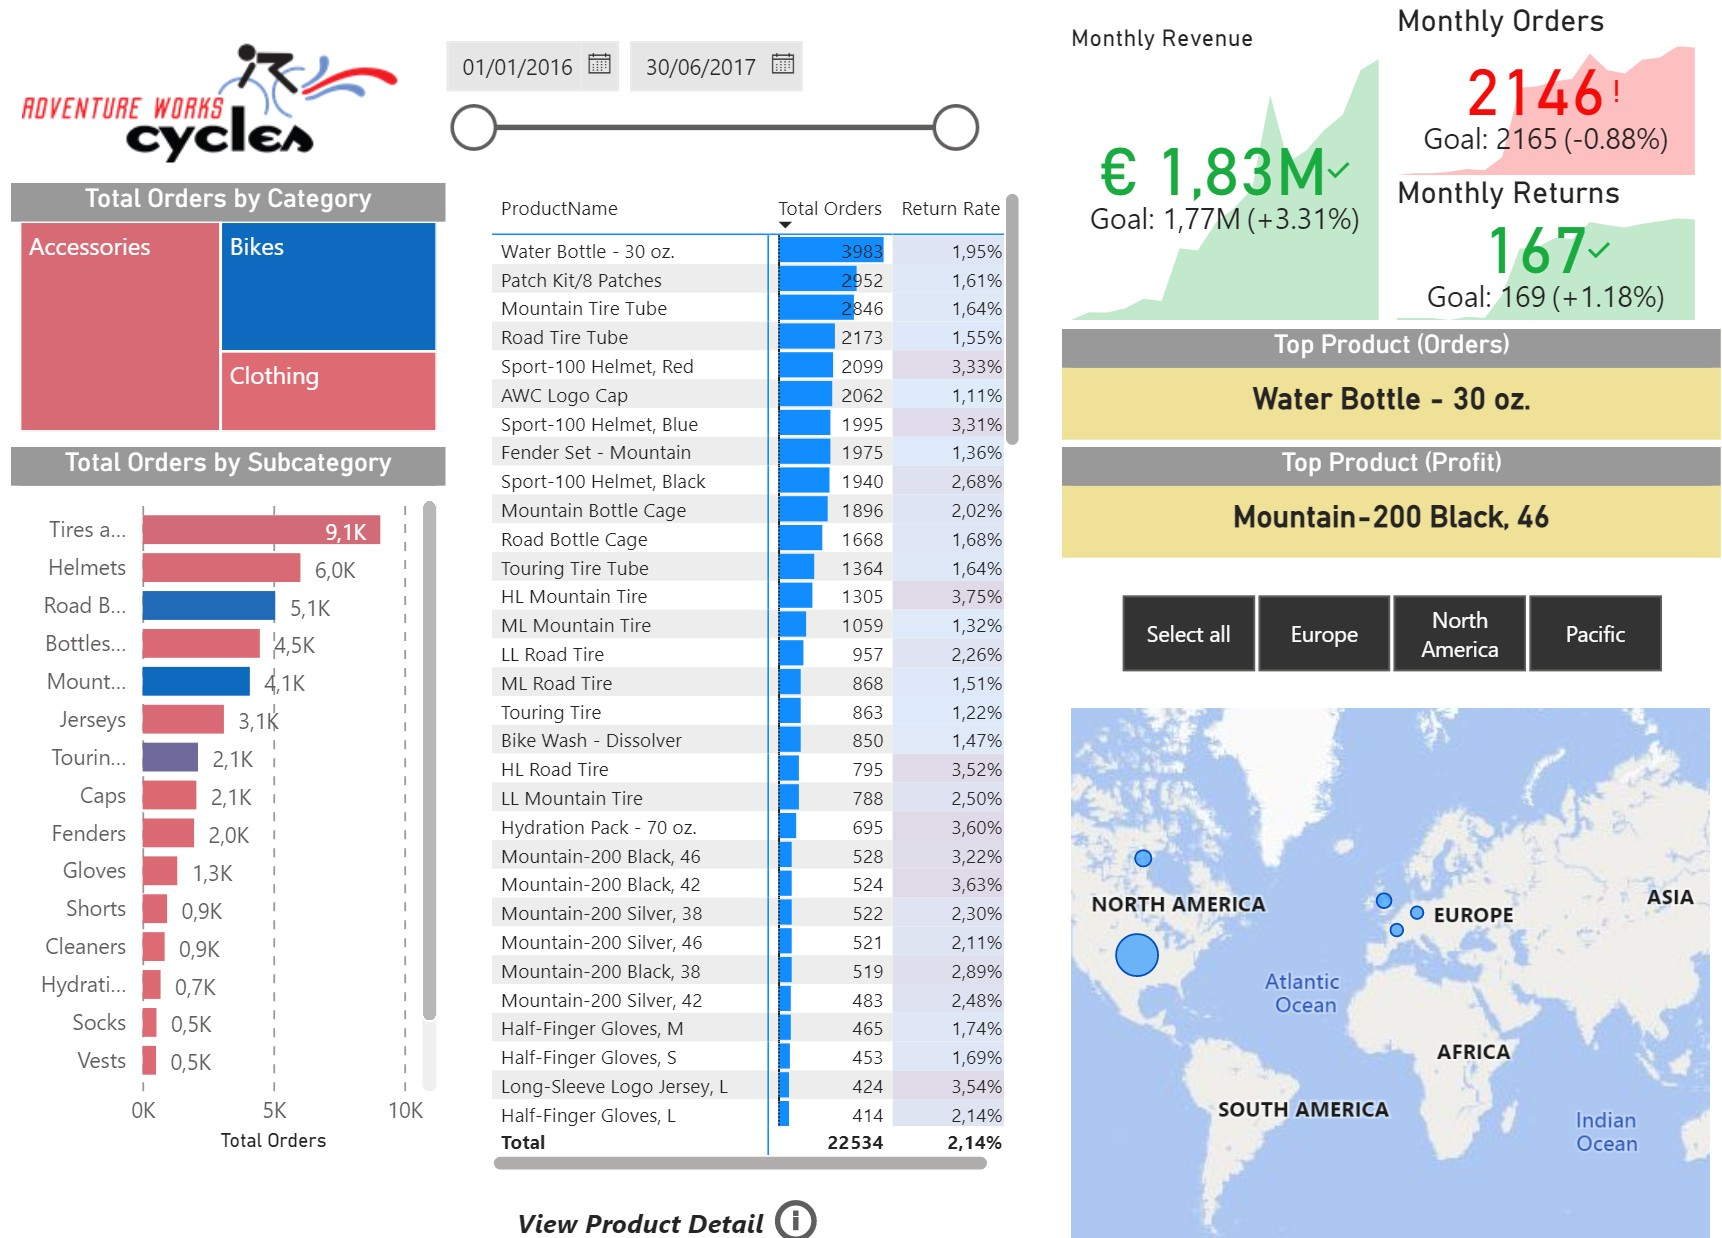

The page's visual inventory and layout, read from the dashboard file:
{"tool":"powerbi","page":{"name":"Exec Summary","canvas":[960,720],"ordinal":0},"visuals":[{"type":"image","box":[11.1,14.9,221.1,88.3],"z":0},{"type":"treemap","title":"Total Orders by Category","fields":{"Group":["AW_Product_Category_Lookup.CategoryName","AW_Product_Subcategory_Lookup.SubcategoryName"],"Values":["AW_Sales.Total Orders"]},"box":[10.2,103.1,241.5,143.1],"z":1000},{"type":"barChart","title":"Total Orders by Subcategory","fields":{"Category":["AW_Product_Subcategory_Lookup.SubcategoryName"],"Y":["AW_Sales.Total Orders"]},"box":[10.2,249.9,241.5,395.8],"z":2000},{"type":"pivotTable","fields":{"Values":["AW_Sales.Total Orders","AW_Returns.Return Rate"],"Rows":["AW_Product_Category_Lookup.CategoryName","AW_Product_Subcategory_Lookup.SubcategoryName","AW_Product_Lookup.ProductName"]},"box":[272.3,102.8,303,554.2],"z":3000},{"type":"slicer","fields":{"Values":["AW_Calendar_Lookup.Date"]},"box":[238.8,14.9,316.8,76.2],"z":4000},{"type":"kpi","title":"Monthly Revenue","fields":{"Indicator":["AW_Sales.Total Revenue"],"TrendLine":["AW_Calendar_Lookup.Start of Month"],"Goal":["AW_Sales.Prev Month Revenue"]},"box":[593.7,14.9,181.2,170],"z":5000},{"type":"kpi","title":"Monthly Orders","fields":{"TrendLine":["AW_Calendar_Lookup.Start of Month"],"Indicator":["AW_Sales.Total Orders"],"Goal":["AW_Sales.Prev Month Orders"]},"box":[774.8,2.8,175.6,100.3],"z":6000},{"type":"kpi","title":"Monthly Returns","fields":{"TrendLine":["AW_Calendar_Lookup.Start of Month"],"Goal":["AW_Returns.Prev Month Returns"],"Indicator":["AW_Returns.Total Returns"]},"box":[774.8,99.4,175.6,85.5],"z":7000},{"type":"card","title":"Top Product (Orders)","fields":{"Values":["Min(AW_Product_Lookup.ProductName)"]},"box":[593.7,184.9,366,61.3],"z":8000},{"type":"card","title":"Top Product (Profit)","fields":{"Values":["Min(AW_Product_Lookup.ProductName)"]},"box":[593.7,249.9,366,61.3],"z":9000},{"type":"map","fields":{"Category":["AW_Territories_Lookup.Territory Hierarchy.Country"],"Size":["AW_Sales.Total Orders"]},"box":[593.7,390.2,365.1,329.8],"z":10000},{"type":"slicer","fields":{"Values":["AW_Territories_Lookup.Continent"]},"box":[601.1,326.1,349.3,55.7],"z":11000},{"type":"textbox","box":[272.3,665.4,174.8,35],"z":12000},{"type":"actionButton","box":[430.2,660.1,31.8,40.3],"z":13000}]}

Visuals, with their boxes on the page's 960x720 design canvas (x1, y1, x2, y2). These are canvas units, not pixel positions in the 1722x1238 screenshot, which may show the page scaled, cropped or inside an application window:
image: l=11, t=15, r=232, b=103
"Total Orders by Category" treemap: l=10, t=103, r=252, b=246
"Total Orders by Subcategory" barChart: l=10, t=250, r=252, b=646
pivotTable - AW_Sales.Total Orders x AW_Returns.Return Rate: l=272, t=103, r=575, b=657
slicer - AW_Calendar_Lookup.Date: l=239, t=15, r=556, b=91
"Monthly Revenue" kpi: l=594, t=15, r=775, b=185
"Monthly Orders" kpi: l=775, t=3, r=950, b=103
"Monthly Returns" kpi: l=775, t=99, r=950, b=185
"Top Product (Orders)" card: l=594, t=185, r=960, b=246
"Top Product (Profit)" card: l=594, t=250, r=960, b=311
map - AW_Territories_Lookup.Territory Hierarchy.Country x AW_Sales.Total Orders: l=594, t=390, r=959, b=720
slicer - AW_Territories_Lookup.Continent: l=601, t=326, r=950, b=382
textbox: l=272, t=665, r=447, b=700
actionButton: l=430, t=660, r=462, b=700
